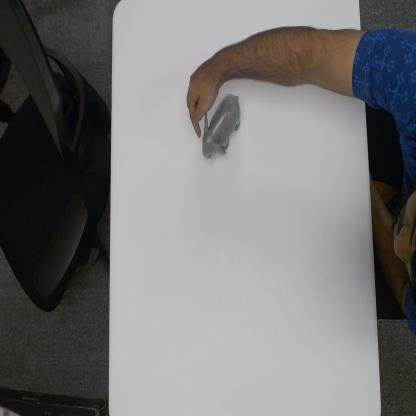Arm: (222, 22, 416, 108)
Elephant: (201, 92, 241, 165)
Hand: (185, 43, 222, 139)
